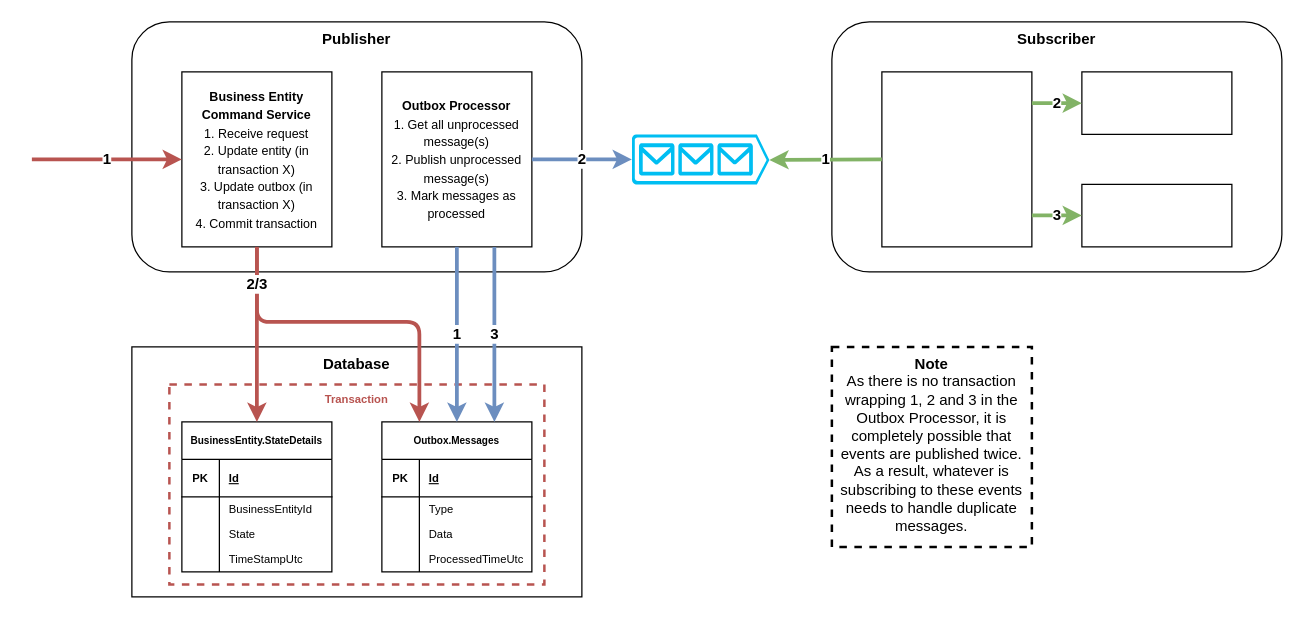
This 1304x619 diagram has some shape labels left out. Here are the shapes that lost their labels. From the top down, the centre of each, then its label:
pixel 1156 102: Duplicate Checker
pixel 956 159: Message Receiver 1. Receive event 2. Verify non-duplicate 3. Send to processor
pixel 1156 215: Message Processor
